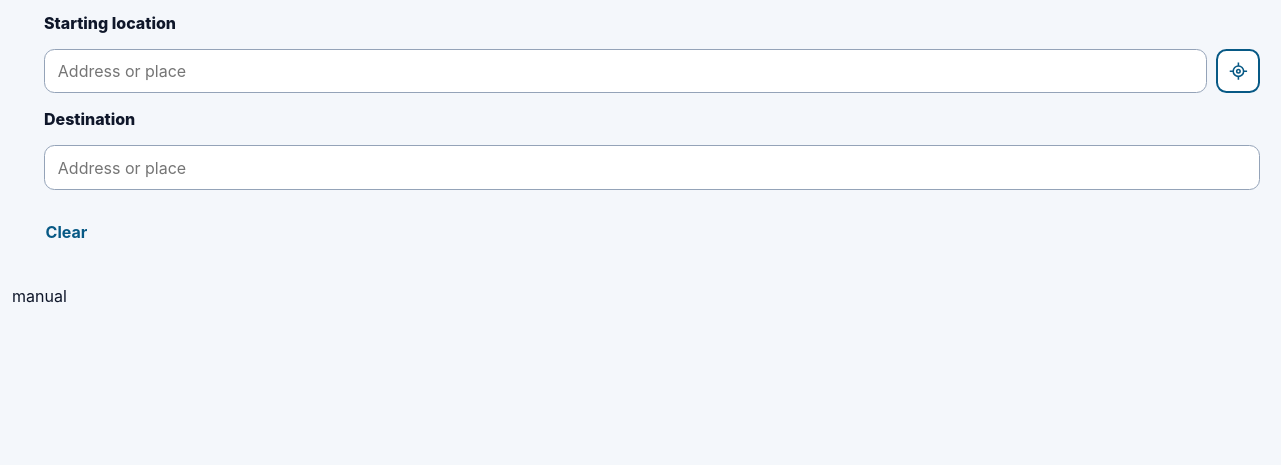
TripPlanner › automatically resolves a manual origin on field exit without a search button
The width and height of the screenshot is (1281, 465).
In the dropdown labelled "Starting location": (626,71) [44, 49, 1207, 93], type "43.07310, -89.40120"
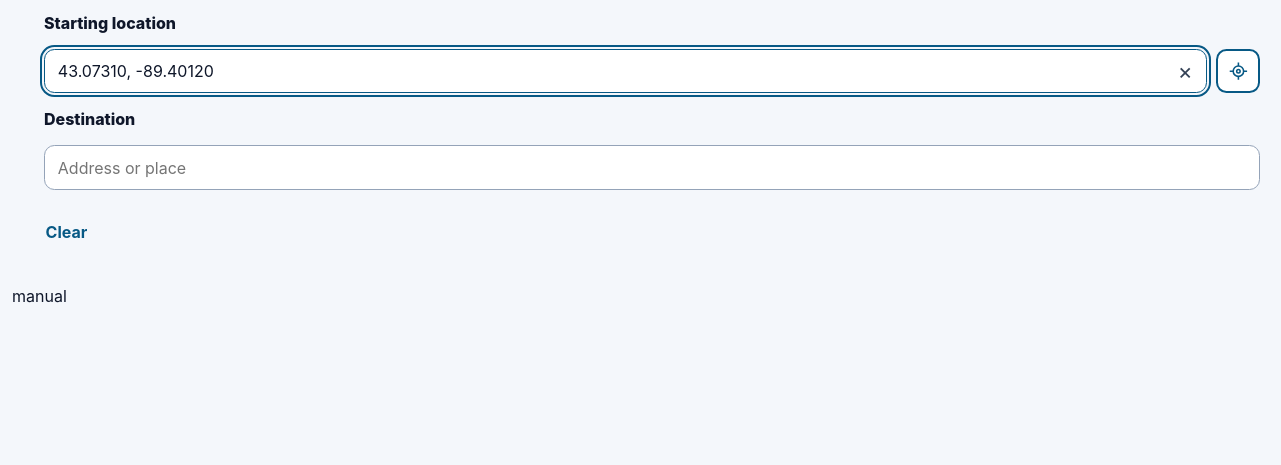
Click the dropdown labelled "Destination": (652,168) [44, 145, 1260, 190]
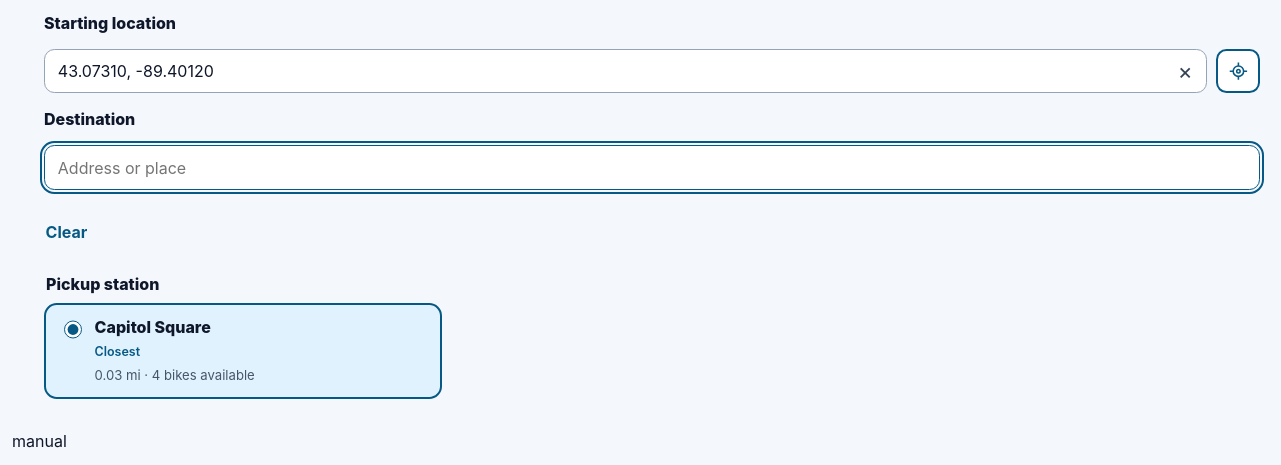
Now the element "Pickup station" is shown, box [44, 274, 442, 399]
